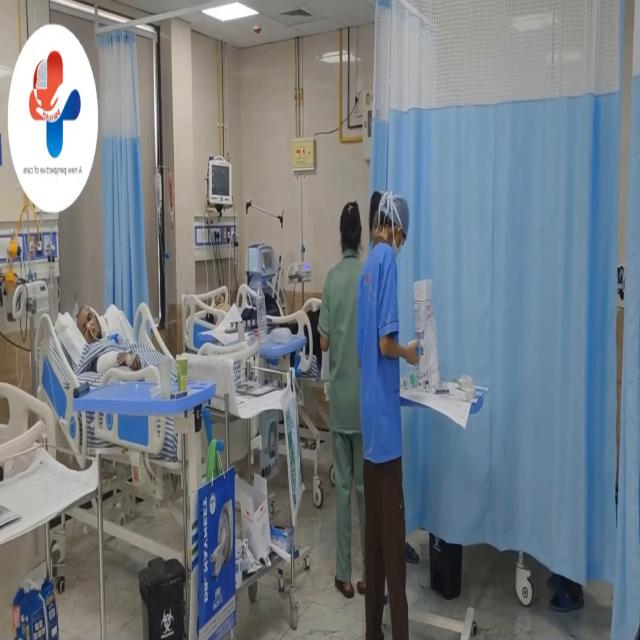Movement-NO: (65, 289, 139, 396)
